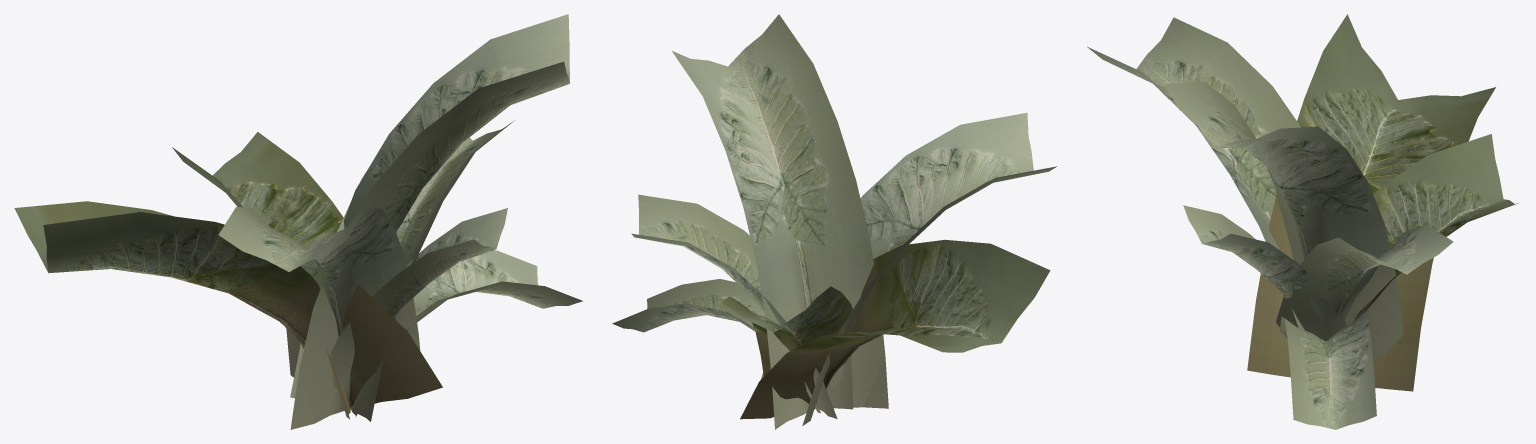
The model's file is Elephant_Ear.fbx.
3 views of the same model, side by side, from view 1: azimuth 30°, elevation 25°; view 2: azimuth 150°, elevation 25°; view 3: azimuth 270°, elevation 25° (orthographic). The views are drawn at different scales.
Visible parts, largest first — view 1: Elephant_Ear_Leaves_A_Top, Elephant_Ear_Leaves_B_Top, Elephant_Ear_Leaves_A_Bottom, Elephant_Ear_Leaves_B_Bottom; view 2: Elephant_Ear_Leaves_A_Top, Elephant_Ear_Leaves_B_Top, Elephant_Ear_Leaves_A_Bottom, Elephant_Ear_Leaves_B_Bottom; view 3: Elephant_Ear_Leaves_A_Top, Elephant_Ear_Leaves_B_Top, Elephant_Ear_Leaves_A_Bottom, Elephant_Ear_Leaves_B_Bottom.
Boxes of the visible parts, <box> form: Elephant_Ear_Leaves_A_Top: <box>218,14,582,429</box>; Elephant_Ear_Leaves_B_Top: <box>14,132,442,418</box>; Elephant_Ear_Leaves_A_Bottom: <box>220,17,577,427</box>; Elephant_Ear_Leaves_B_Bottom: <box>18,136,441,416</box>; Elephant_Ear_Leaves_A_Top: <box>612,14,1056,429</box>; Elephant_Ear_Leaves_B_Top: <box>717,239,1050,419</box>; Elephant_Ear_Leaves_A_Bottom: <box>615,16,1051,426</box>; Elephant_Ear_Leaves_B_Bottom: <box>719,240,1049,418</box>; Elephant_Ear_Leaves_A_Top: <box>1087,17,1453,429</box>; Elephant_Ear_Leaves_B_Top: <box>1247,14,1518,391</box>; Elephant_Ear_Leaves_A_Bottom: <box>1093,19,1452,428</box>; Elephant_Ear_Leaves_B_Bottom: <box>1248,14,1510,391</box>.
Bounding box in the file's own units: 2.38 × 1.68 × 1.86.
